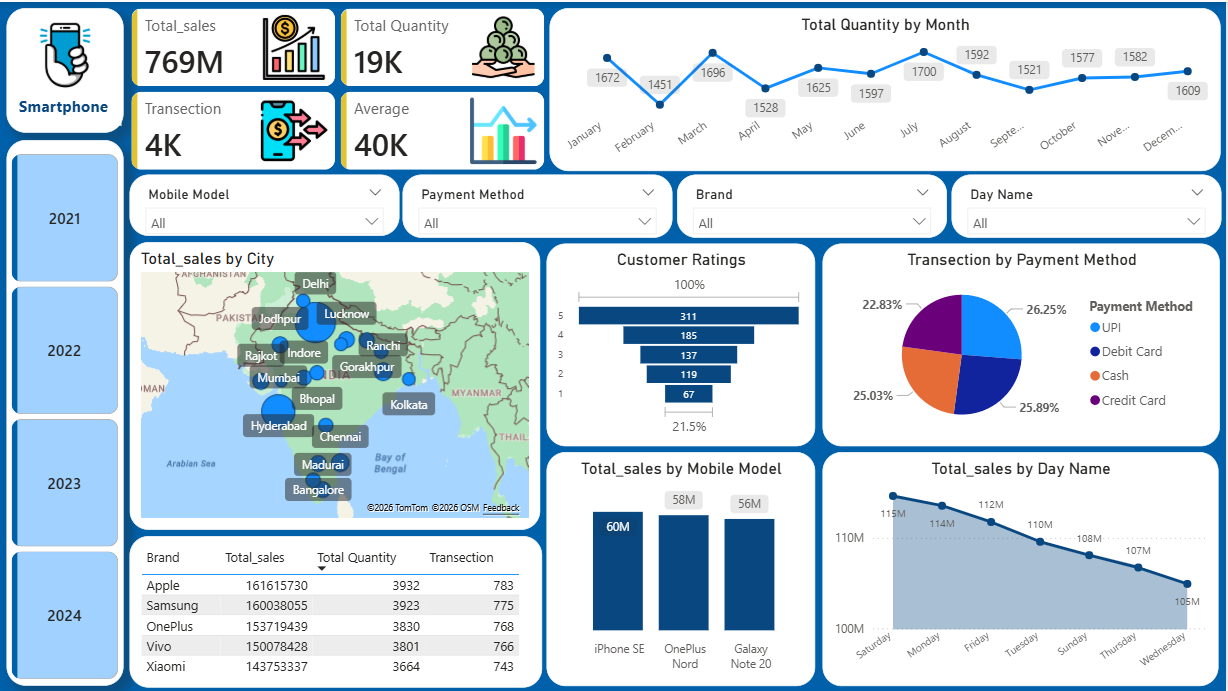

The dashboard page shown, as its layout file describes it:
{"tool":"powerbi","page":{"name":"Page 1","canvas":[1280,720],"ordinal":0},"visuals":[{"type":"shape","box":[8.3,6.7,121.7,130],"z":0},{"type":"image","box":[15.5,10.9,106.4,88.2],"z":1000},{"type":"shape","box":[7.8,143.8,121.9,568.9],"z":2000},{"type":"advancedSlicerVisual","fields":{"Values":["Sales_Data.Date.Variation.Date Hierarchy.Year"]},"box":[7.8,153.2,121.9,559.5],"z":3000},{"type":"cardVisual","fields":{"Data":["Sales_Data.Total_sales","Sales_Data.Total_Quantity","Sales_Data.Transection","Sales_Data.Average"]},"box":[132.1,2.1,440,178.6],"z":4000},{"type":"lineChart","fields":{"Y":["Sales_Data.Total Quantity"],"Category":["Sales_Data.Date.Variation.Date Hierarchy.Quarter","Sales_Data.Date.Variation.Date Hierarchy.Month","Sales_Data.Date.Variation.Date Hierarchy.Day"]},"box":[573,6,699,170],"z":5000},{"type":"azureMap","fields":{"Category":["Sales_Data.City"],"Size":["Sales_Data.Total_sales"]},"box":[136,250.1,428.3,300.1],"z":6000},{"type":"clusteredColumnChart","fields":{"Category":["Sales_Data.Mobile Model"],"Y":["Sales_Data.Total_sales"]},"box":[570.5,468.9,279.8,243.8],"z":7000},{"type":"pieChart","fields":{"Category":["Sales_Data.Payment Method"],"Y":["Sales_Data.Transection"]},"box":[858.1,251.6,414.2,211],"z":8000},{"type":"funnel","title":"Customer Ratings","fields":{"Category":["Sales_Data.Customer Ratings"],"Y":["CountNonNull(Sales_Data.Customer Ratings)"]},"box":[570.5,251.6,279.8,211],"z":9000},{"type":"areaChart","fields":{"Category":["Sales_Data.Day Name"],"Y":["Sales_Data.Total_sales"]},"box":[858.1,468.9,412.6,243.8],"z":10000},{"type":"slicer","fields":{"Values":["Sales_Data.Mobile Model"]},"box":[135.7,180,281.4,64.3],"z":11000},{"type":"slicer","fields":{"Values":["Sales_Data.Payment Method"]},"box":[420,180,281.4,65.7],"z":12000},{"type":"slicer","fields":{"Values":["Sales_Data.Brand"]},"box":[705.7,180,281.4,65.7],"z":13000},{"type":"slicer","fields":{"Values":["Sales_Data.Day Name"]},"box":[992.9,180,281.4,65.7],"z":14000},{"type":"tableEx","fields":{"Values":["Sales_Data.Brand","Sales_Data.Total_sales","Sales_Data.Total Quantity","Sales_Data.Transection"]},"box":[136,556.4,429.8,157.9],"z":15000},{"type":"textbox","box":[15.5,91.8,111.8,36.4],"z":16000}]}

Visuals, with their boxes in screenshot pixels (x1, y1, x2, y2), scaled from the page's 1280x720 canvas onto the 1228x691 screenshot:
shape: 8,6,125,131
image: 15,10,117,95
shape: 7,138,124,684
advancedSlicerVisual - Sales_Data.Date.Variation.Date Hierarchy.Year: 7,147,124,684
cardVisual - Sales_Data.Total_sales x Sales_Data.Total_Quantity: 127,2,549,173
lineChart - Sales_Data.Total Quantity x Sales_Data.Date.Variation.Date Hierarchy.Quarter: 550,6,1220,169
azureMap - Sales_Data.City x Sales_Data.Total_sales: 130,240,541,528
clusteredColumnChart - Sales_Data.Mobile Model x Sales_Data.Total_sales: 547,450,816,684
pieChart - Sales_Data.Payment Method x Sales_Data.Transection: 823,241,1221,444
"Customer Ratings" funnel: 547,241,816,444
areaChart - Sales_Data.Day Name x Sales_Data.Total_sales: 823,450,1219,684
slicer - Sales_Data.Mobile Model: 130,173,400,234
slicer - Sales_Data.Payment Method: 403,173,673,236
slicer - Sales_Data.Brand: 677,173,947,236
slicer - Sales_Data.Day Name: 953,173,1223,236
tableEx - Sales_Data.Brand x Sales_Data.Total_sales: 130,534,543,686
textbox: 15,88,122,123
